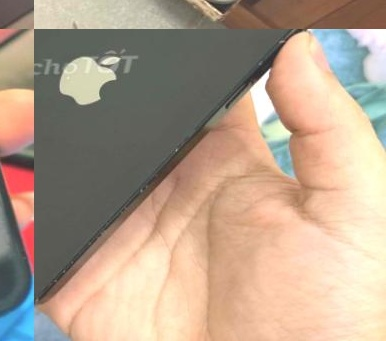scratch: (0, 54, 29, 243)
